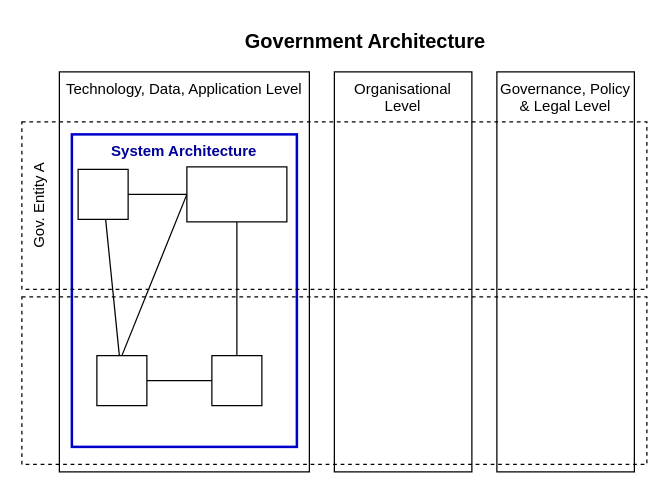
Some shapes in this 669 by 494 pixel diagram are drawn without their labels. The box of each missing label's shape, as (x1, y1, x2, y2) in pixels:
Gov. Entity B: (21, 296, 647, 464)
Software Architecture: (186, 166, 287, 222)
